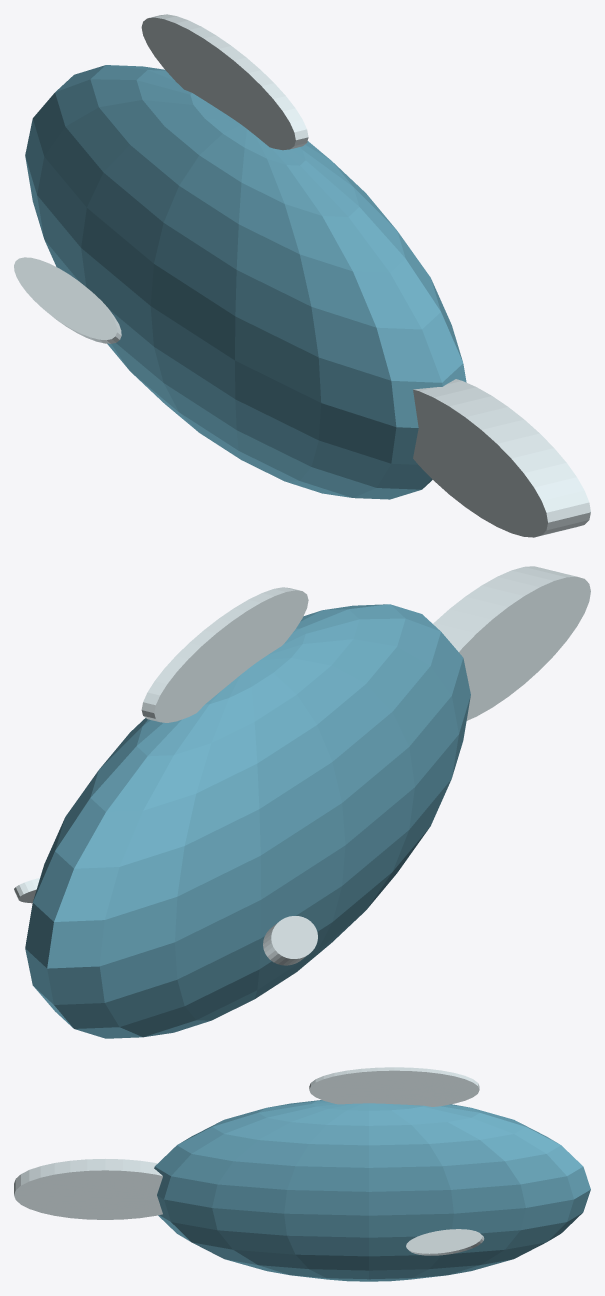
The model's file is swimming_sea_fish.fbx.
3 views of the same model, one above another, from view 1: azimuth 30°, elevation 25°; view 2: azimuth 150°, elevation 25°; view 3: azimuth 270°, elevation 25° (orthographic). The views are drawn at different scales.
Parts seen in each view (by area): view 1: SwimmingFish3D; view 2: SwimmingFish3D; view 3: SwimmingFish3D.
Boxes of the visible parts, x1,y1,x2,y2 form: SwimmingFish3D: (14, 14, 590, 537); SwimmingFish3D: (14, 566, 590, 1038); SwimmingFish3D: (14, 1067, 590, 1281).
Size of the model in its own units: 0.3393 by 0.4545 by 1.14.
